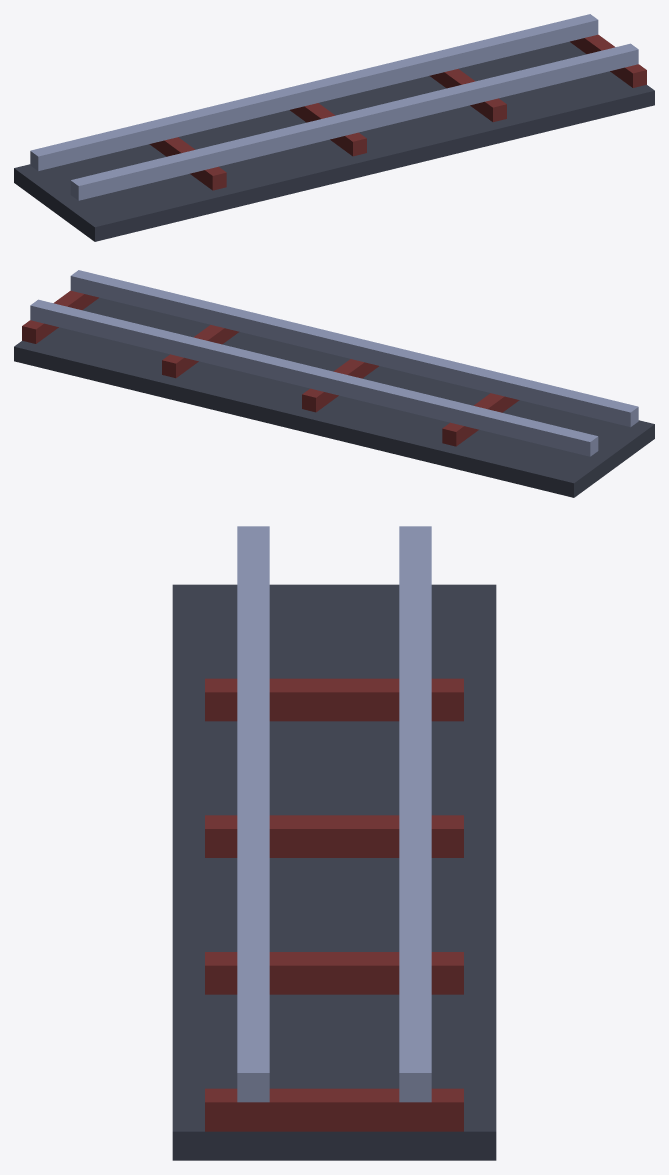
The model's file is RailwayLimit.obj.
3 renders of one model, top to bottom at view 1: azimuth 30°, elevation 25°; view 2: azimuth 150°, elevation 25°; view 3: azimuth 270°, elevation 25°, orthographic. The views are drawn at different scales.
Visible parts, largest first — view 1: RailwayLimit; view 2: RailwayLimit; view 3: RailwayLimit.
Boxes of the visible parts, x1,y1,x2,y2 form: RailwayLimit: [14, 14, 654, 241]; RailwayLimit: [14, 270, 654, 497]; RailwayLimit: [172, 526, 496, 1160].
Size of the model in its own units: 40 by 3 by 10.
